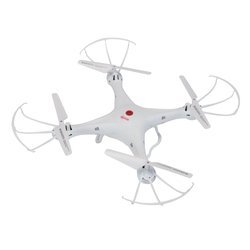drone: (8, 34, 243, 208)
